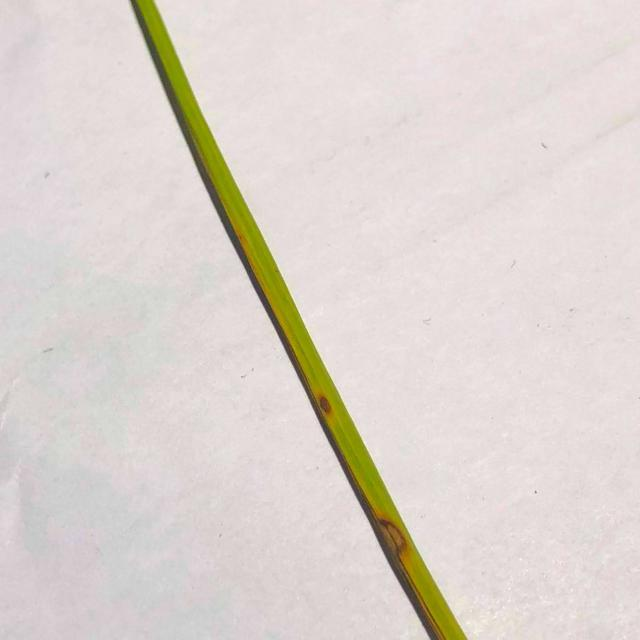Blast: (378, 517, 408, 554), (316, 392, 338, 414)
